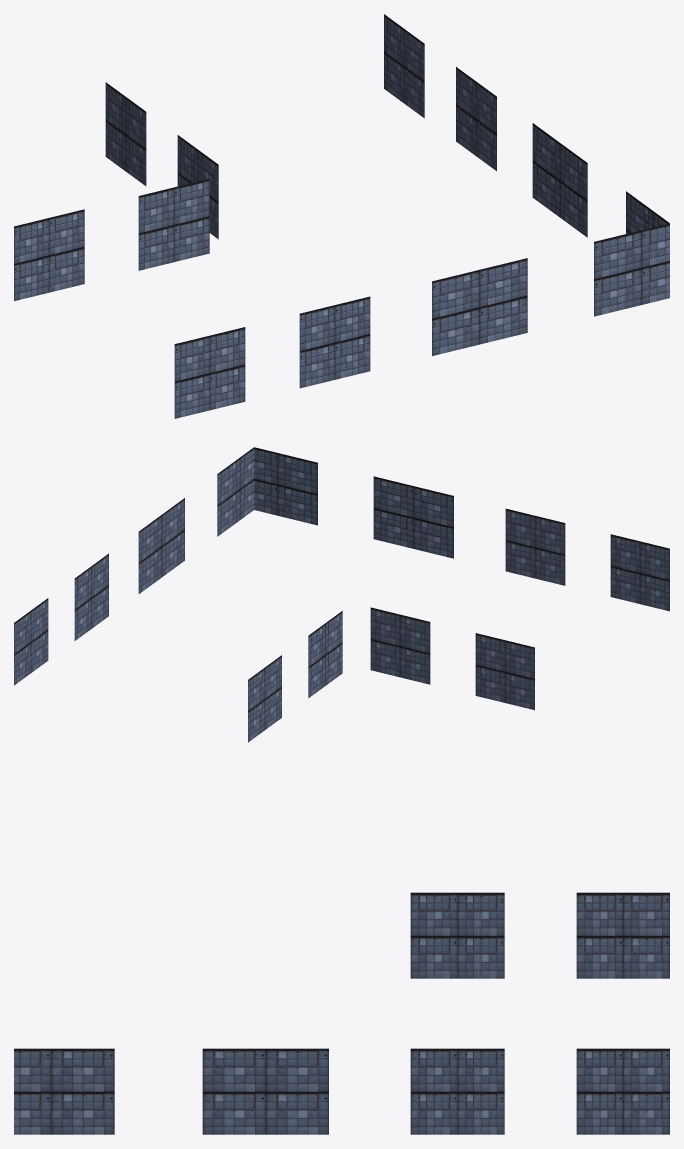
File: warehousebrickc_id_2_windowdarka_dm_0_lev1.glb
3 views of the same model, one above another, from view 1: azimuth 30°, elevation 25°; view 2: azimuth 150°, elevation 25°; view 3: azimuth 270°, elevation 25° (orthographic). The views are drawn at different scales.
Visible parts, largest first — view 1: warehousebrickc_id_2_windowdarka_dm_0_lev1; view 2: warehousebrickc_id_2_windowdarka_dm_0_lev1; view 3: warehousebrickc_id_2_windowdarka_dm_0_lev1.
Part boxes in pixels (left/top/right/bottom): warehousebrickc_id_2_windowdarka_dm_0_lev1: left=14, top=14, right=669, bottom=418; warehousebrickc_id_2_windowdarka_dm_0_lev1: left=14, top=447, right=669, bottom=742; warehousebrickc_id_2_windowdarka_dm_0_lev1: left=14, top=892, right=669, bottom=1134.
Size of the model in its own units: 10.8 by 1.56 by 10.8.
1 material, 1 textured.
